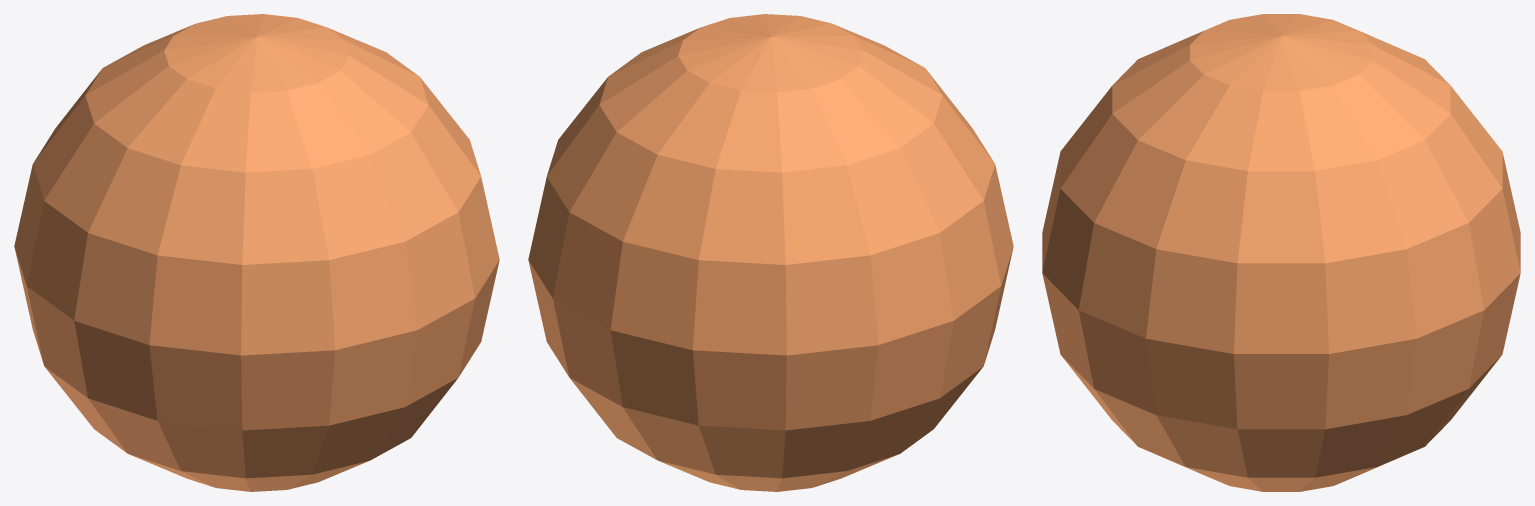
File: beam_start.gltf
3 renders of one model, left to right at view 1: azimuth 30°, elevation 25°; view 2: azimuth 150°, elevation 25°; view 3: azimuth 270°, elevation 25°, orthographic.
Visible parts, largest first — view 1: sphere; view 2: sphere; view 3: sphere.
Part boxes in pixels (x1,y1,x2,y2): sphere: (14,14,499,491); sphere: (528,14,1013,491); sphere: (1042,14,1520,491).
Bounding box in the file's own units: 1 × 1 × 1.
1 material, 1 textured.
